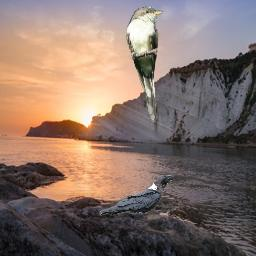Crow: (99, 175, 174, 216)
Cuckoo: (126, 6, 164, 123)
